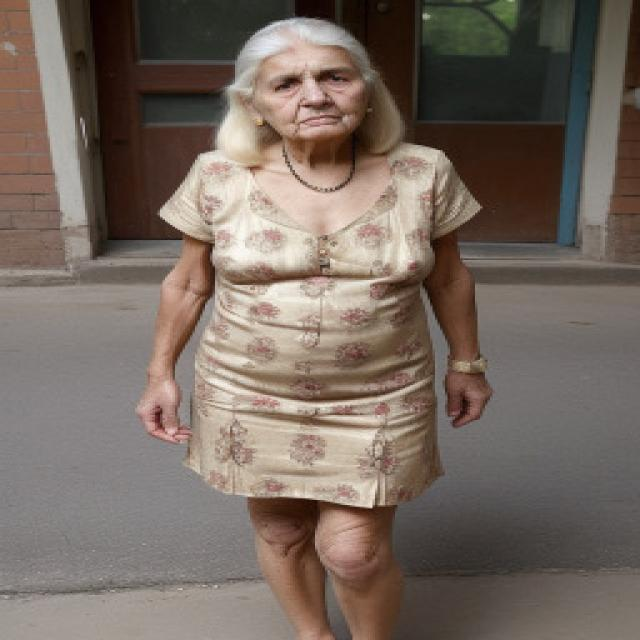Ai human 2: (127, 15, 525, 640)
